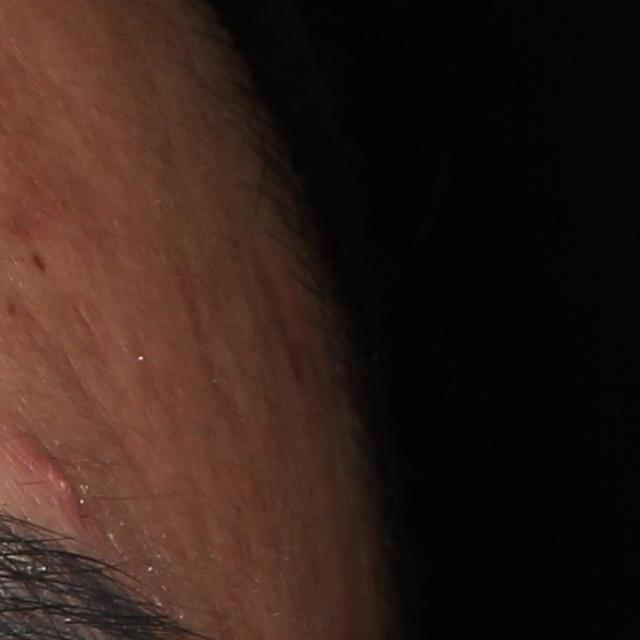nevus: (31, 251, 52, 277)
papule: (10, 438, 82, 514)
